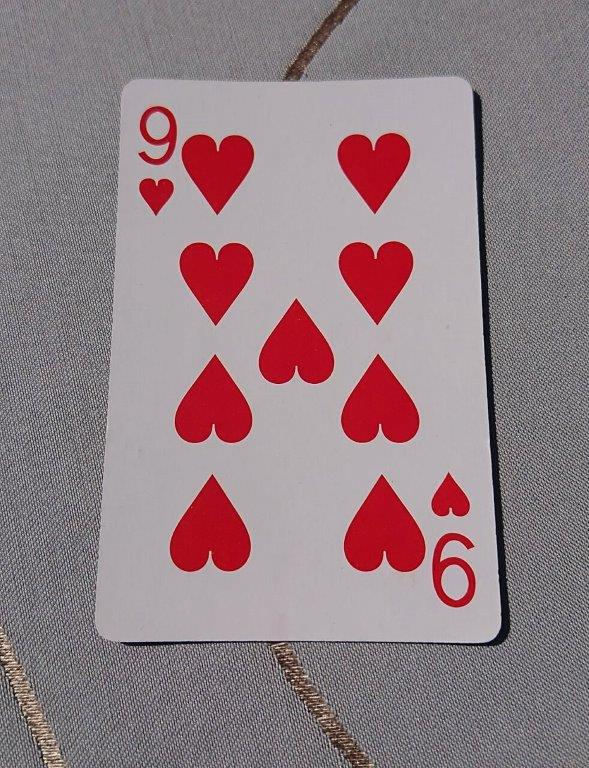9H: (94, 73, 507, 646)
